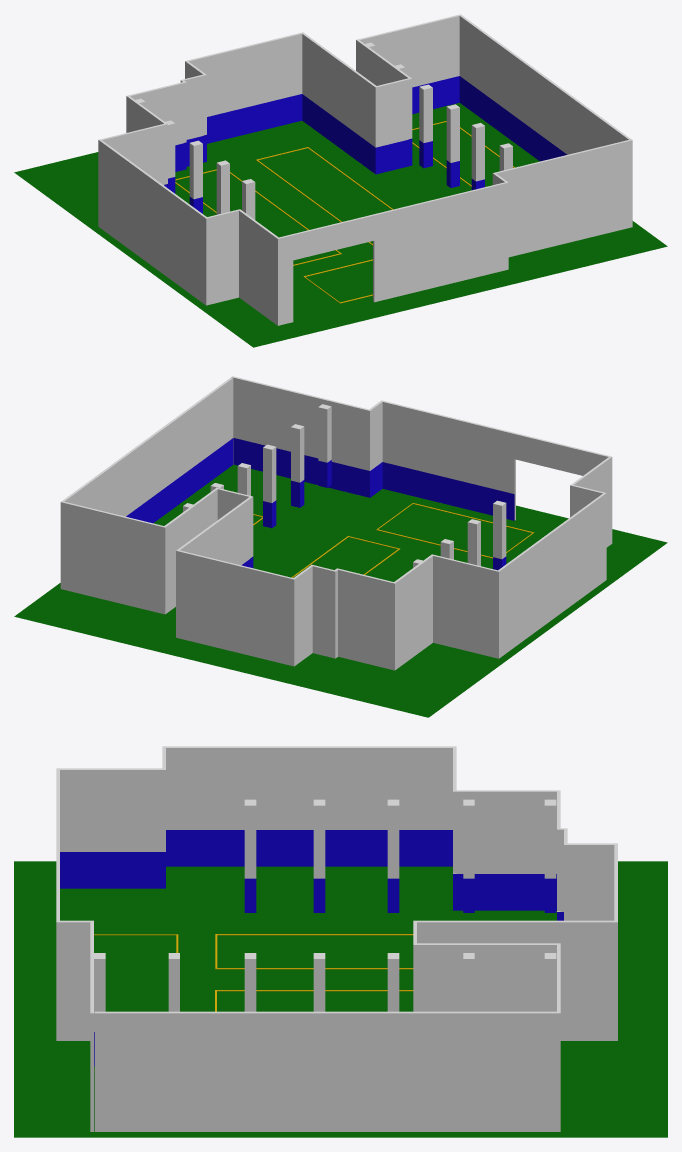
File: floorV4.glb
The picture shows the model from 3 angles, top to bottom: view 1: azimuth 30°, elevation 25°; view 2: azimuth 150°, elevation 25°; view 3: azimuth 270°, elevation 25°; orthographic projection. The views are drawn at different scales.
Visible parts, largest first — view 1: Cube, Plane, Cube.009, Cube.007, Cube.022, Cube.006, Cube.021, Cube.023, Cube.020; view 2: Cube, Plane, Cube.006, Cube.008, Cube.005, Cube.020, Cube.021; view 3: Cube, Plane, Cube.020, Cube.021, Cube.022, Cube.024, Cube.023, Cube.002, Cube.006, Cube.007, Cube.009, Cube.011 (+3 smaller).
Part boxes in pixels (<box>): Cube: <box>98,14,632,325</box>; Plane: <box>14,102,667,347</box>; Cube.009: <box>419,84,432,168</box>; Cube.007: <box>446,104,459,187</box>; Cube.022: <box>189,140,202,213</box>; Cube.006: <box>471,123,484,190</box>; Cube.021: <box>216,160,229,214</box>; Cube.023: <box>165,120,175,193</box>; Cube.020: <box>242,179,255,219</box>; Cube: <box>60,376,612,670</box>; Plane: <box>14,464,667,717</box>; Cube.006: <box>263,444,276,528</box>; Cube.008: <box>318,404,331,487</box>; Cube.005: <box>291,424,304,507</box>; Cube.020: <box>493,500,506,570</box>; Cube.021: <box>467,519,480,565</box>; Cube: <box>56,746,617,1131</box>; Plane: <box>14,861,667,1137</box>; Cube.020: <box>244,799,256,912</box>; Cube.021: <box>313,799,325,912</box>; Cube.022: <box>387,799,399,912</box>; Cube.024: <box>544,799,556,912</box>; Cube.023: <box>463,799,474,912</box>; Cube.002: <box>215,934,413,969</box>; Cube.006: <box>244,953,256,1011</box>; Cube.007: <box>313,953,325,1011</box>; Cube.009: <box>387,953,399,1011</box>; Cube.011: <box>544,953,556,1011</box>.
Size of the model in its own units: 36.45 by 7.4 by 36.45.
